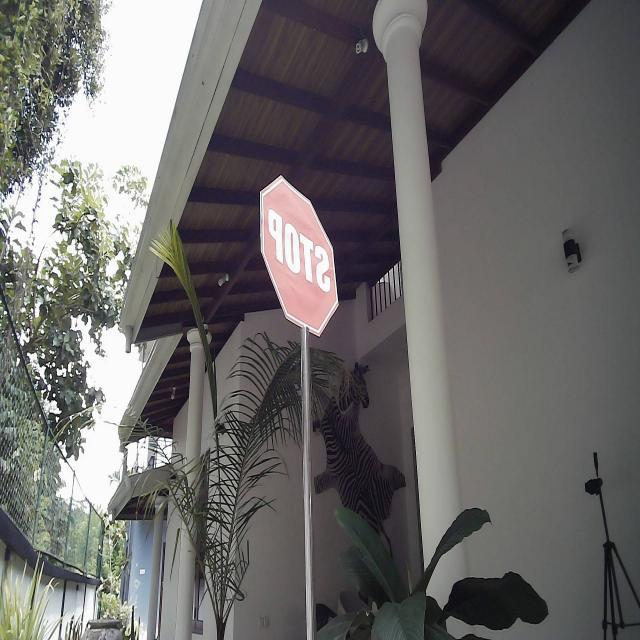stop: (258, 170, 340, 340)
